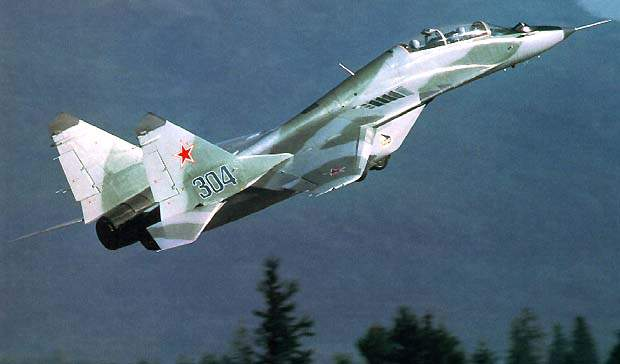Mig-29: (23, 15, 586, 240)
